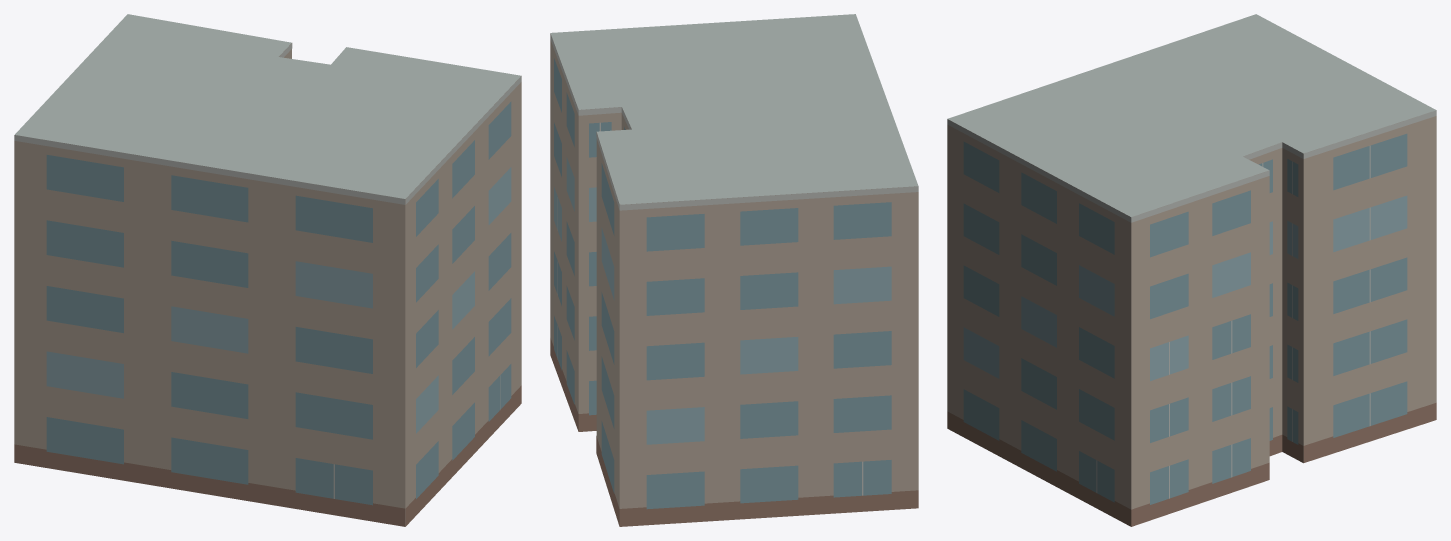
Rendered from survey-upis-32727643.glb.
3 views of the same model, side by side, from view 1: azimuth 30°, elevation 25°; view 2: azimuth 150°, elevation 25°; view 3: azimuth 270°, elevation 25° (orthographic). The views are drawn at different scales.
Parts seen in each view (by area): view 1: survey-upis-32727643.tmp; view 2: survey-upis-32727643.tmp; view 3: survey-upis-32727643.tmp.
Part boxes in pixels (box(x1,y1,x2,y2)): survey-upis-32727643.tmp: box(14, 14, 521, 526); survey-upis-32727643.tmp: box(550, 14, 918, 526); survey-upis-32727643.tmp: box(947, 14, 1436, 526).
Size of the model in its own units: 19.01 by 13.5 by 19.35.
